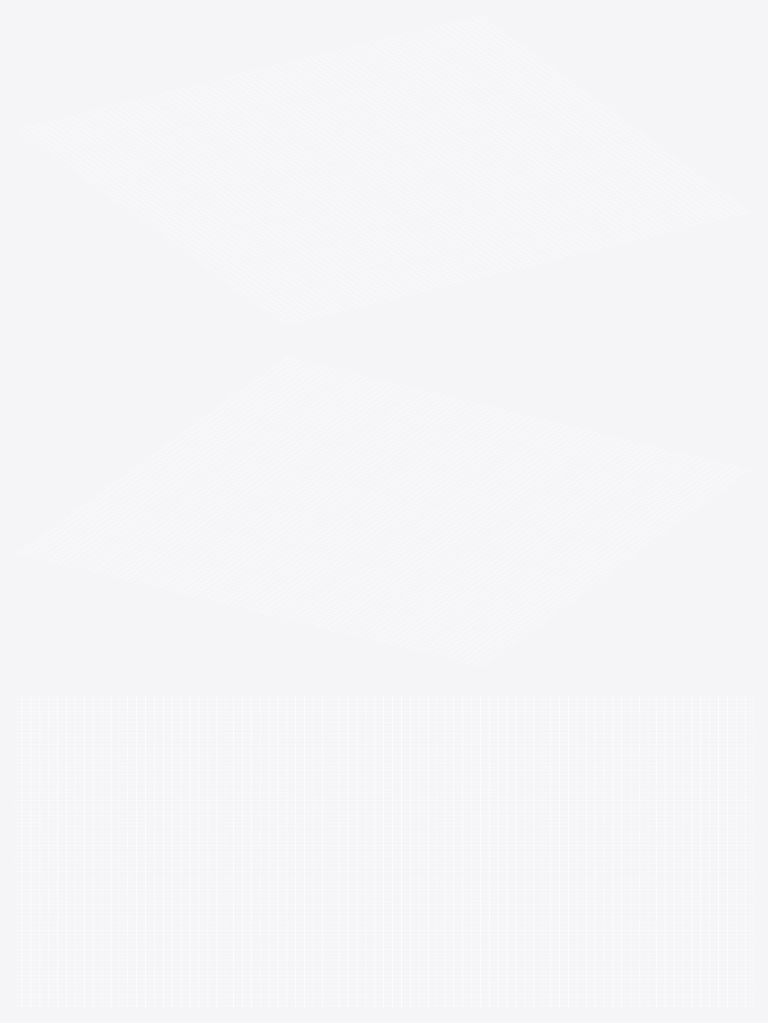
The model's file is NewGrid.glb.
The picture shows the model from 3 angles, top to bottom: view 1: azimuth 30°, elevation 25°; view 2: azimuth 150°, elevation 25°; view 3: azimuth 270°, elevation 25°; orthographic projection. The views are drawn at different scales.
Visible parts, largest first — view 1: Cube.001; view 2: Cube.001; view 3: Cube.001.
Boxes of the visible parts, bbox=[...] form: Cube.001: bbox=[14, 15, 750, 324]; Cube.001: bbox=[17, 356, 750, 667]; Cube.001: bbox=[14, 696, 753, 1008].
Bounding box in the file's own units: 271 × 0 × 271.
1 material, 1 textured.
